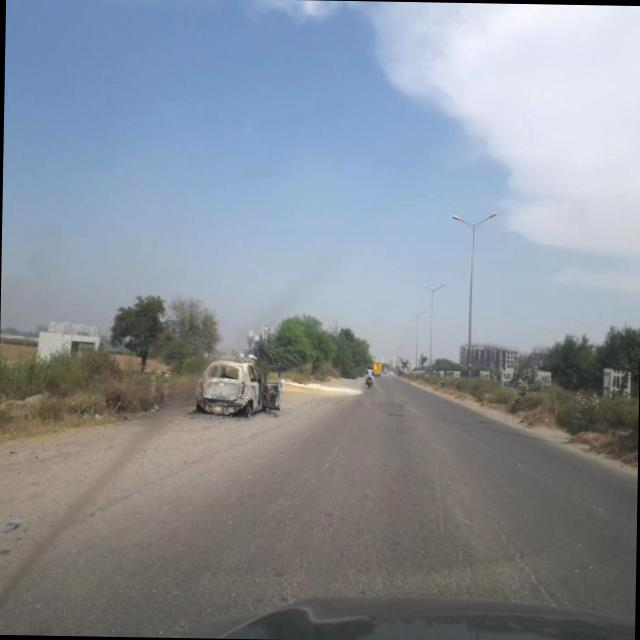pothole: (290, 483, 504, 590), (472, 483, 557, 608)
